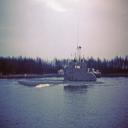submarine: (20, 47, 109, 88)
